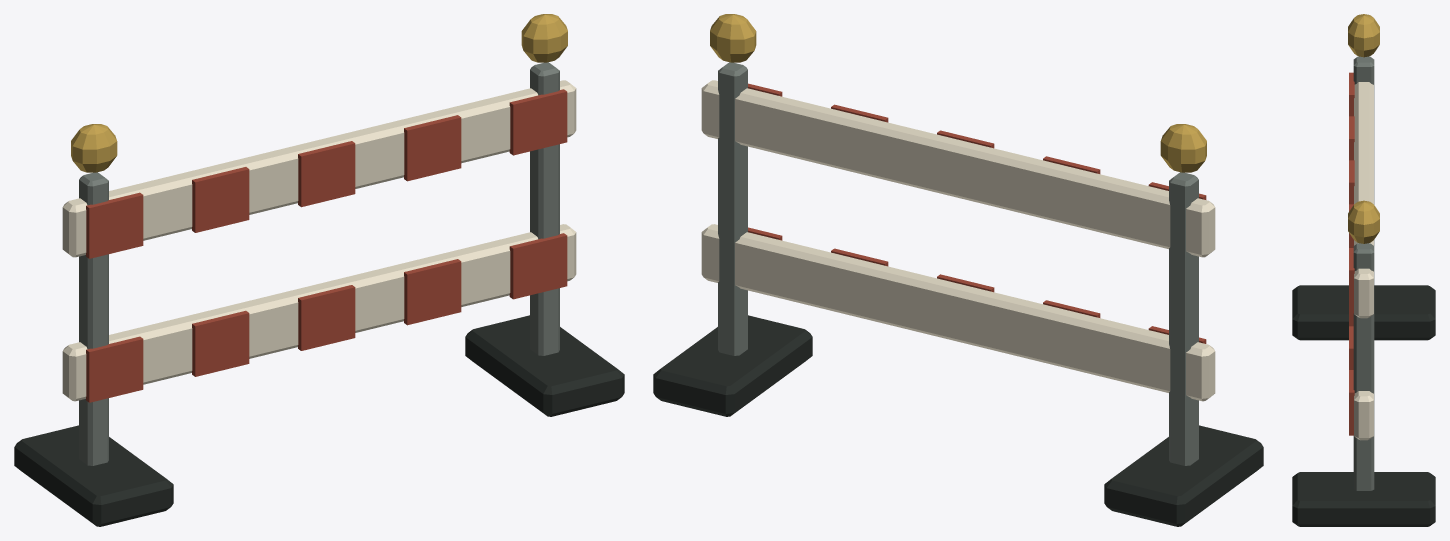
File: platform-barrier.glb
The picture shows the model from 3 angles, left to right: view 1: azimuth 30°, elevation 25°; view 2: azimuth 150°, elevation 25°; view 3: azimuth 270°, elevation 25°; orthographic projection. The views are drawn at different scales.
Parts seen in each view (by area): view 1: platform-barrier; view 2: platform-barrier; view 3: platform-barrier.
Part boxes in pixels (x1=…): platform-barrier: x1=14, y1=14, x2=624, y2=526; platform-barrier: x1=653, y1=14, x2=1263, y2=526; platform-barrier: x1=1292, y1=14, x2=1435, y2=526.
Bounding box in the file's own units: 2.36 × 1.55 × 0.65.
